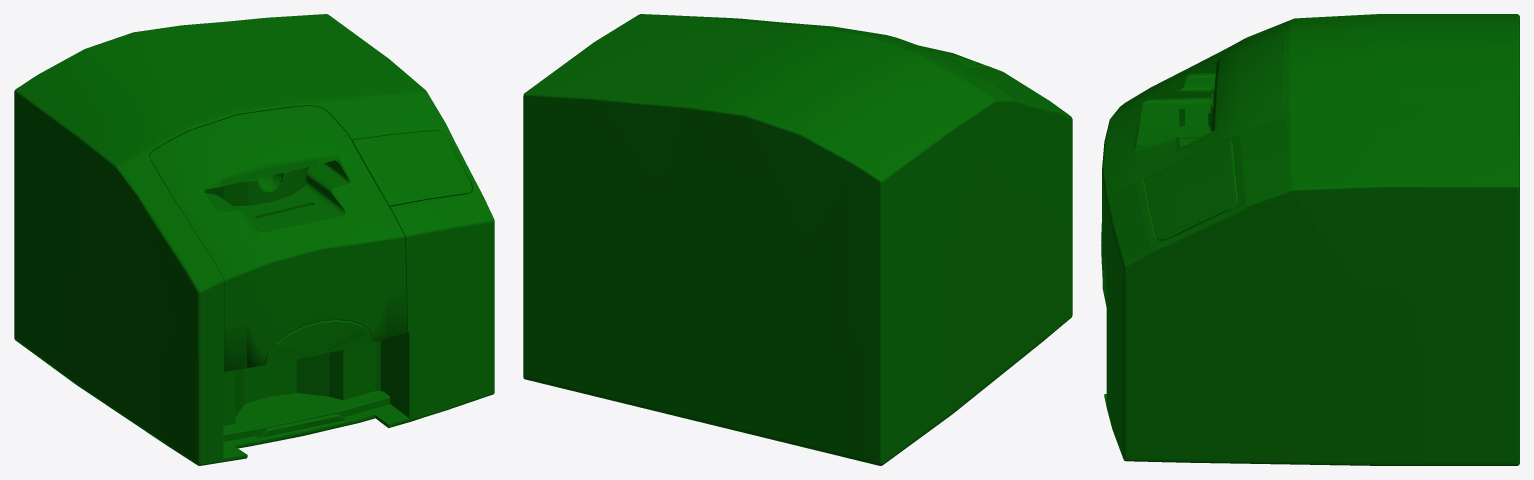
The model's file is Scan_Machine.fbx.
The picture shows the model from 3 angles, left to right: view 1: azimuth 30°, elevation 25°; view 2: azimuth 150°, elevation 25°; view 3: azimuth 270°, elevation 25°; orthographic projection. The views are drawn at different scales.
Parts seen in each view (by area): view 1: Scan_Machine, Scan_Machine_disk; view 2: Scan_Machine; view 3: Scan_Machine.
Part boxes in pixels (x1,y1,x2,y2): Scan_Machine: (14, 14, 494, 465); Scan_Machine_disk: (204, 166, 309, 205); Scan_Machine: (523, 14, 1072, 465); Scan_Machine: (1101, 14, 1519, 465).
Size of the model in its own units: 37.9 by 32.19 by 38.95.
